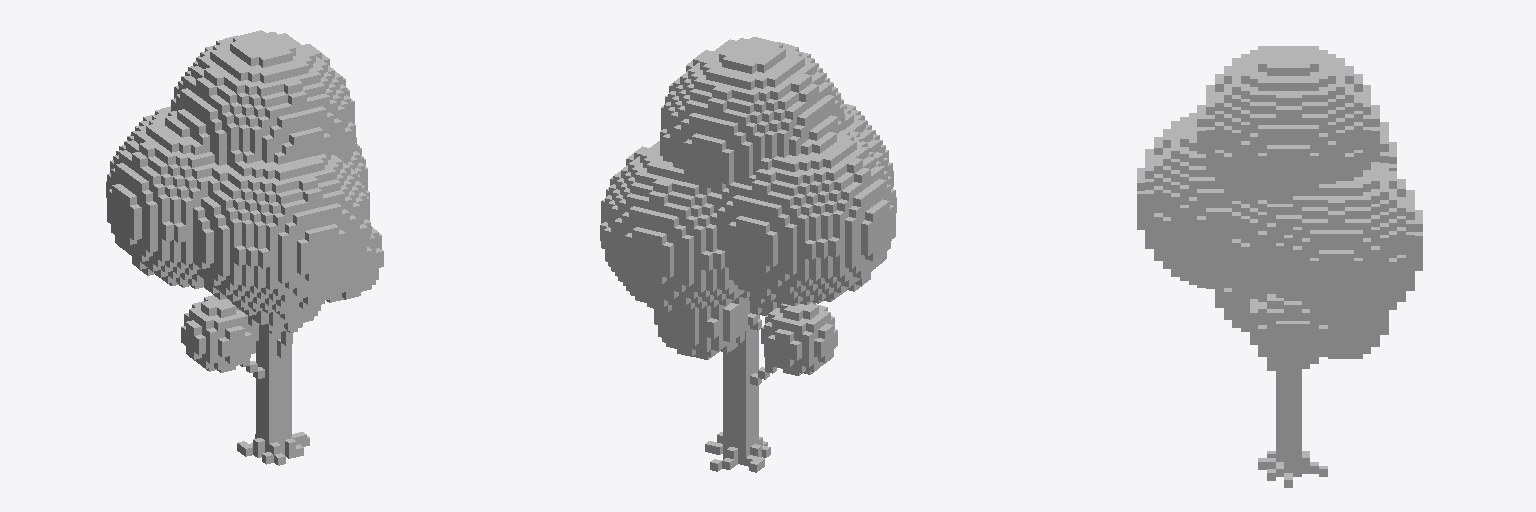
Rendered from tree.obj.
3 views of the same model, side by side, from view 1: azimuth 30°, elevation 25°; view 2: azimuth 150°, elevation 25°; view 3: azimuth 270°, elevation 25° (orthographic).
Visible parts, largest first — view 1: object 1; view 2: object 1; view 3: object 1.
Boxes of the visible parts, box(x1,y1,x2,y2) form: object 1: box(106, 30, 383, 465); object 1: box(600, 37, 896, 472); object 1: box(1137, 46, 1422, 487).
Size of the model in its own units: 3.3 by 5.2 by 3.3.